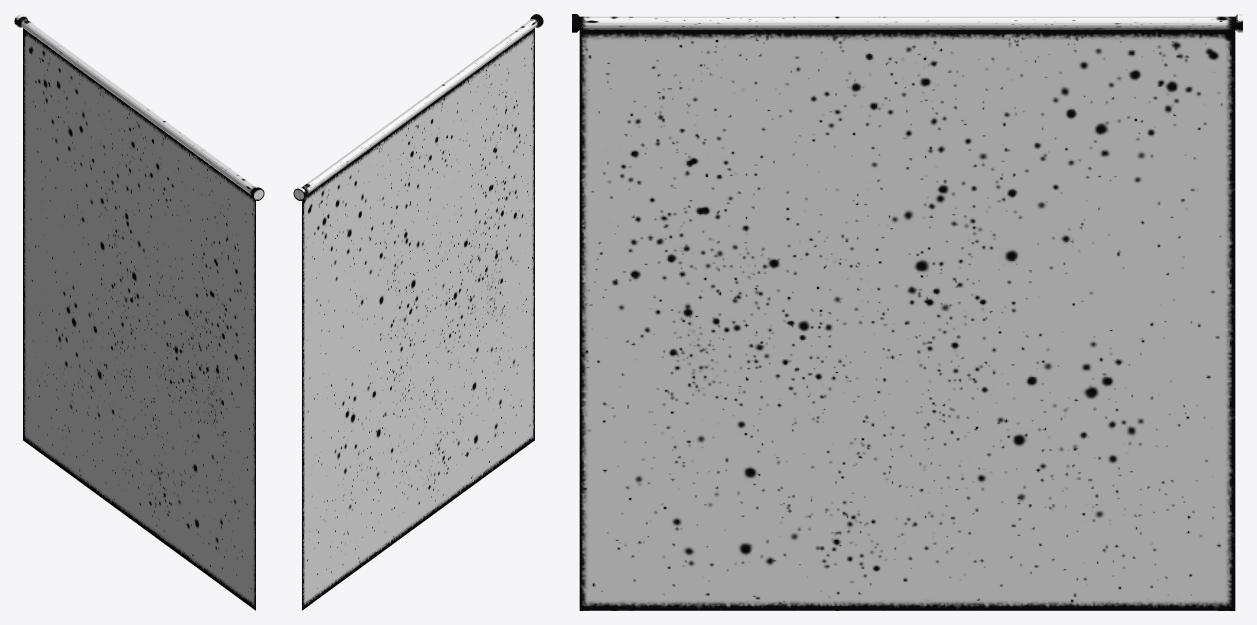
The model's file is curtain.obj.
3 renders of one model, left to right at view 1: azimuth 30°, elevation 25°; view 2: azimuth 150°, elevation 25°; view 3: azimuth 270°, elevation 25°, orthographic. The views are drawn at different scales.
Visible parts, largest first — view 1: Cylinder; view 2: Cylinder; view 3: Cylinder.
Boxes of the visible parts, x1,y1,x2,y2 form: Cylinder: (14, 14, 264, 610); Cylinder: (293, 14, 543, 610); Cylinder: (572, 14, 1242, 610).
Size of the model in its own units: 0.3439 by 12.15 by 12.39.
